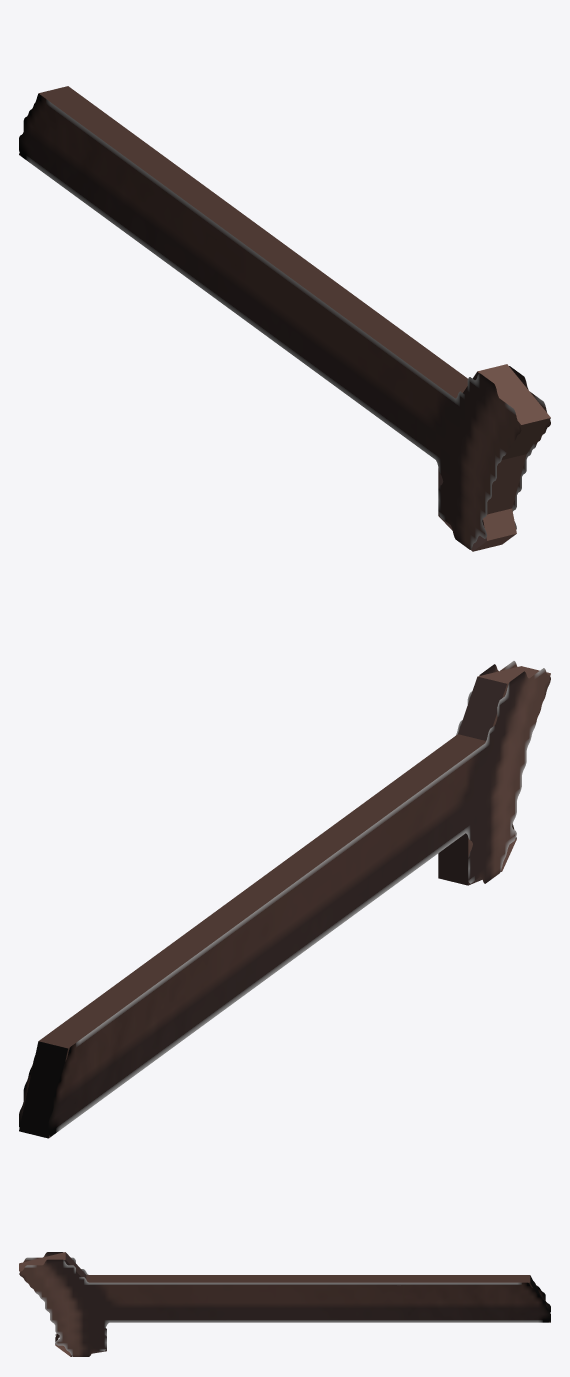
File: pz_native_fixtures_railings_01_50_frame.obj
3 views of the same model, one above another, from view 1: azimuth 30°, elevation 25°; view 2: azimuth 150°, elevation 25°; view 3: azimuth 270°, elevation 25° (orthographic). The views are drawn at different scales.
Parts seen in each view (by area): view 1: pz_native_fixtures_railings_01_50_frame; view 2: pz_native_fixtures_railings_01_50_frame; view 3: pz_native_fixtures_railings_01_50_frame.
Part boxes in pixels (x1,y1,x2,y2): pz_native_fixtures_railings_01_50_frame: (19, 86, 550, 551); pz_native_fixtures_railings_01_50_frame: (19, 661, 550, 1138); pz_native_fixtures_railings_01_50_frame: (19, 1252, 550, 1356).
Size of the model in its own units: 0.045 by 0.2969 by 1.34.
Materials: 1 (1 with a texture image).
